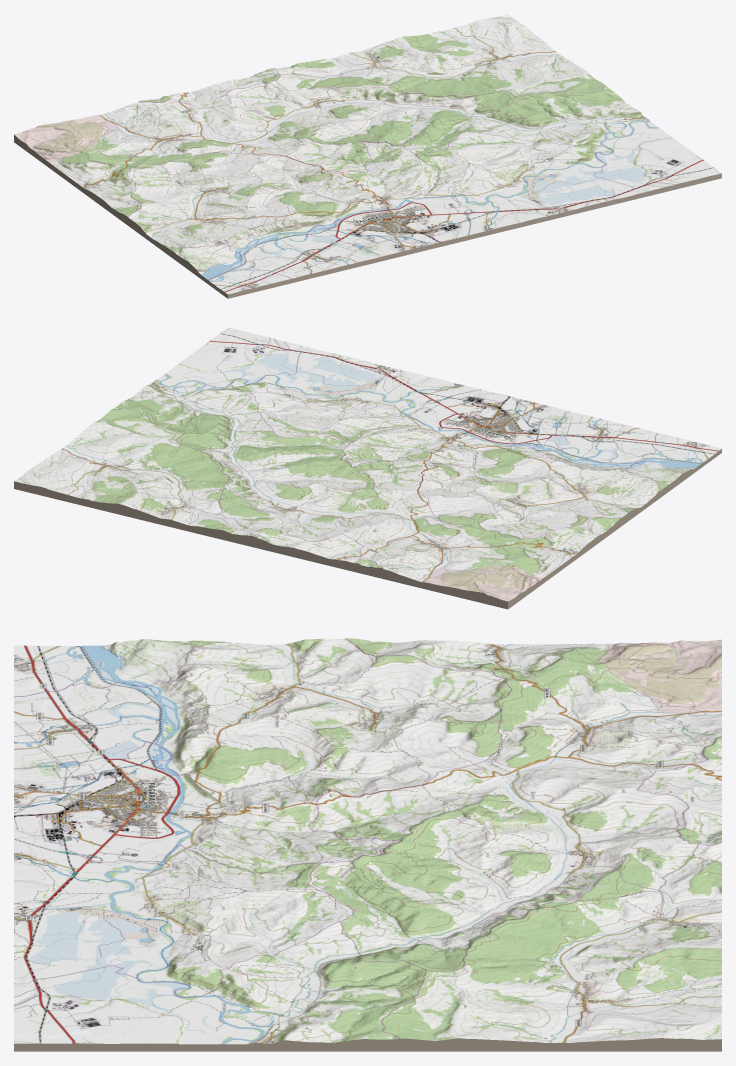
3 views of the same model, one above another, from view 1: azimuth 30°, elevation 25°; view 2: azimuth 150°, elevation 25°; view 3: azimuth 270°, elevation 25° (orthographic). The views are drawn at different scales.
Visible parts, largest first — view 1: BV50-C2 Făgăraș; view 2: BV50-C2 Făgăraș; view 3: BV50-C2 Făgăraș.
Part boxes in pixels (left/top/right/bottom): BV50-C2 Făgăraș: left=14, top=14, right=721, bottom=298; BV50-C2 Făgăraș: left=14, top=327, right=721, bottom=609; BV50-C2 Făgăraș: left=14, top=638, right=721, bottom=1051.
Size of the model in its own units: 20000 by 433 by 15000.
4 materials, 1 textured.
